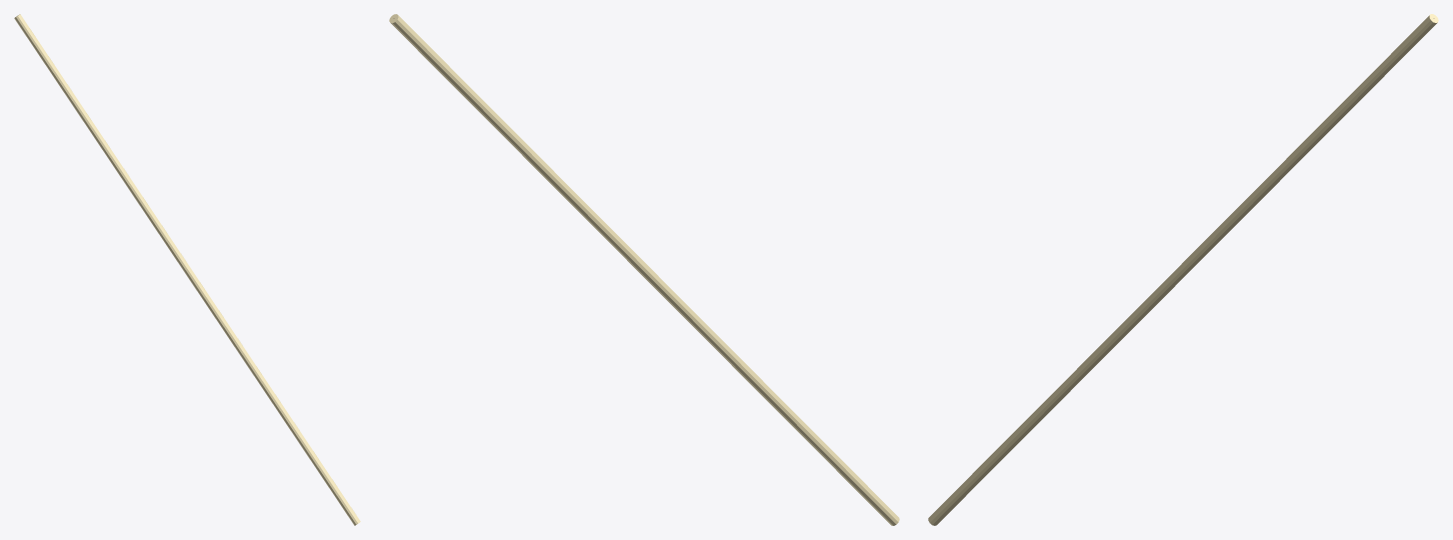
The model's file is tile_415.glb.
3 views of the same model, side by side, from view 1: azimuth 90°, elevation 25°; view 2: azimuth 150°, elevation 25°; view 3: azimuth 270°, elevation 25° (orthographic). The views are drawn at different scales.
Size of the model in its own units: 6.66 by 15.48 by 11.34.
